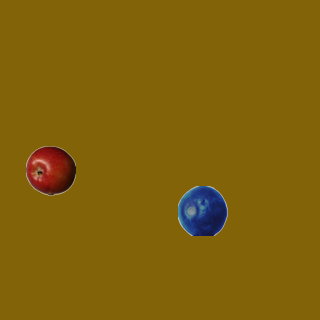Apple Braeburn: (25, 145, 75, 195)
Huckleberry: (177, 185, 227, 235)
